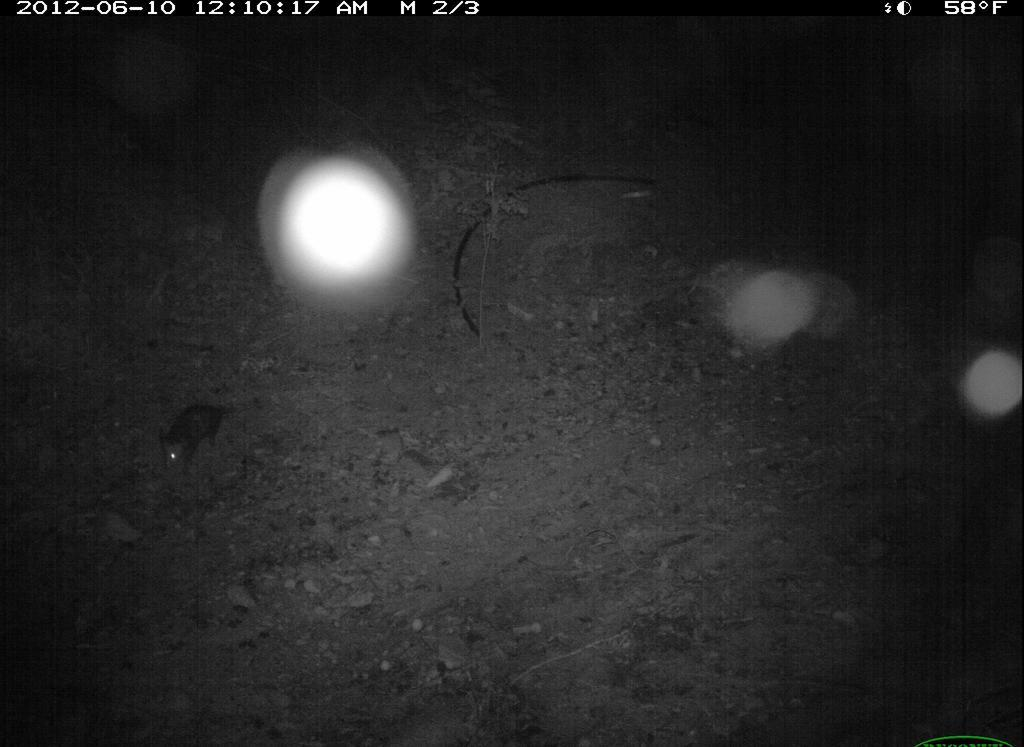opossum: (163, 387, 265, 473)
